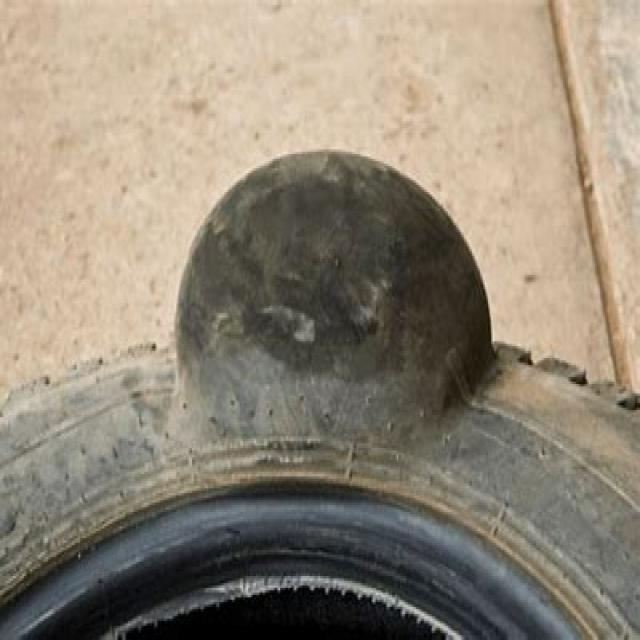Bulge: (165, 126, 504, 474)
